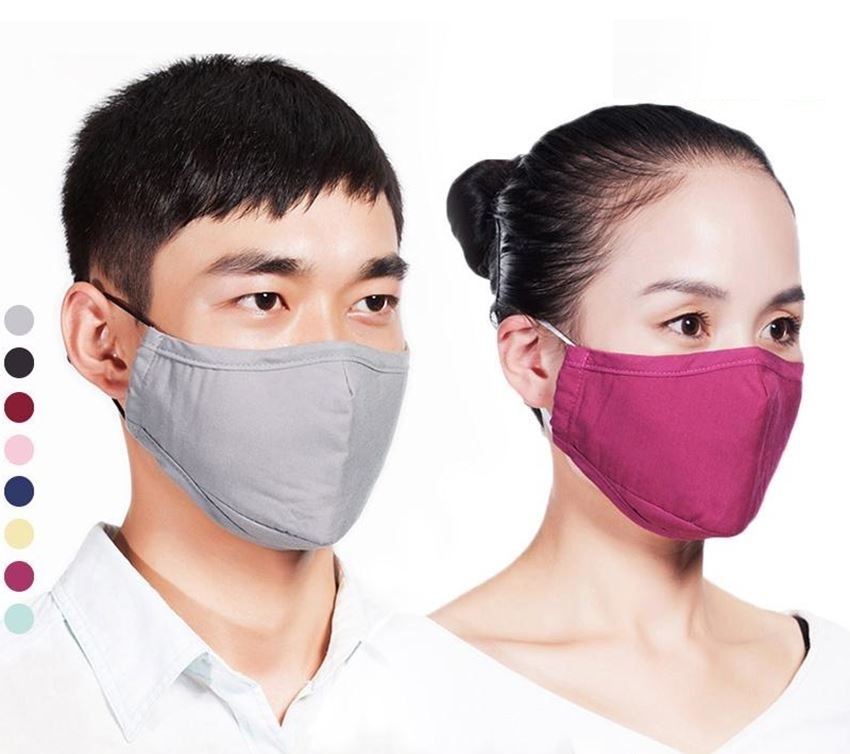face_mask: (142, 167, 410, 548), (566, 170, 821, 542)
